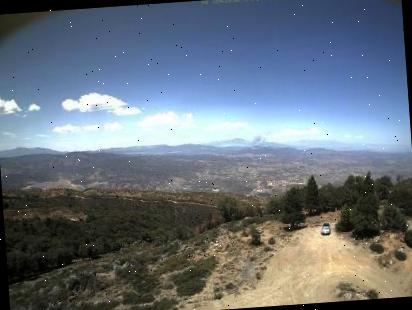smoke: (243, 125, 277, 151)
